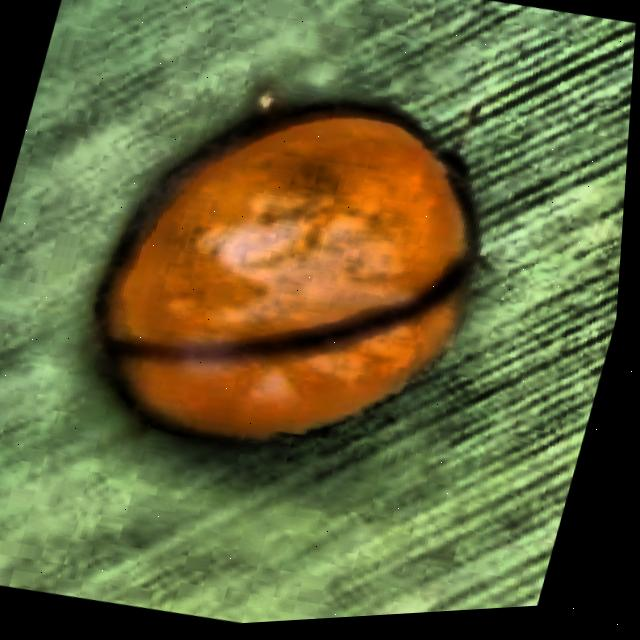Ladybug: (0, 0, 633, 586)
